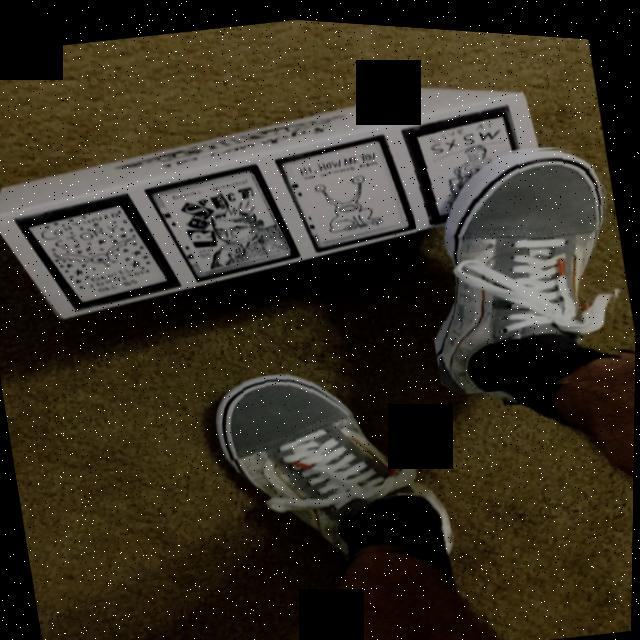shoe: (403, 120, 639, 400), (206, 340, 459, 583)
